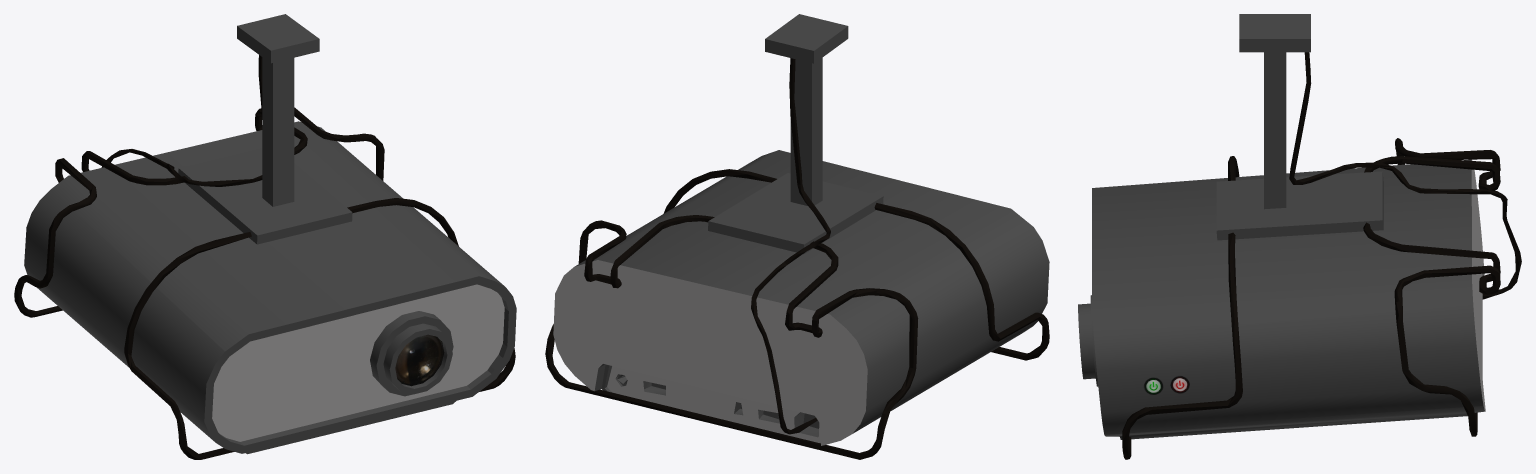
File: Projector.FBX
3 renders of one model, left to right at view 1: azimuth 30°, elevation 25°; view 2: azimuth 150°, elevation 25°; view 3: azimuth 270°, elevation 25°, orthographic. The views are drawn at different scales.
Parts seen in each view (by area): view 1: Projector; view 2: Projector; view 3: Projector.
Part boxes in pixels (x1,y1,x2,y2): Projector: (14, 14, 516, 459); Projector: (545, 14, 1049, 459); Projector: (1078, 14, 1521, 459).
Bounding box in the file's own units: 37.41 × 36.47 × 40.59.
1 material, 1 textured.
